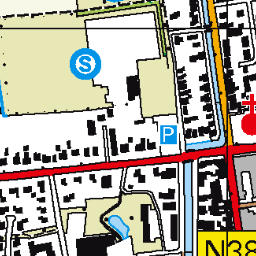church: (238, 90, 256, 138)
